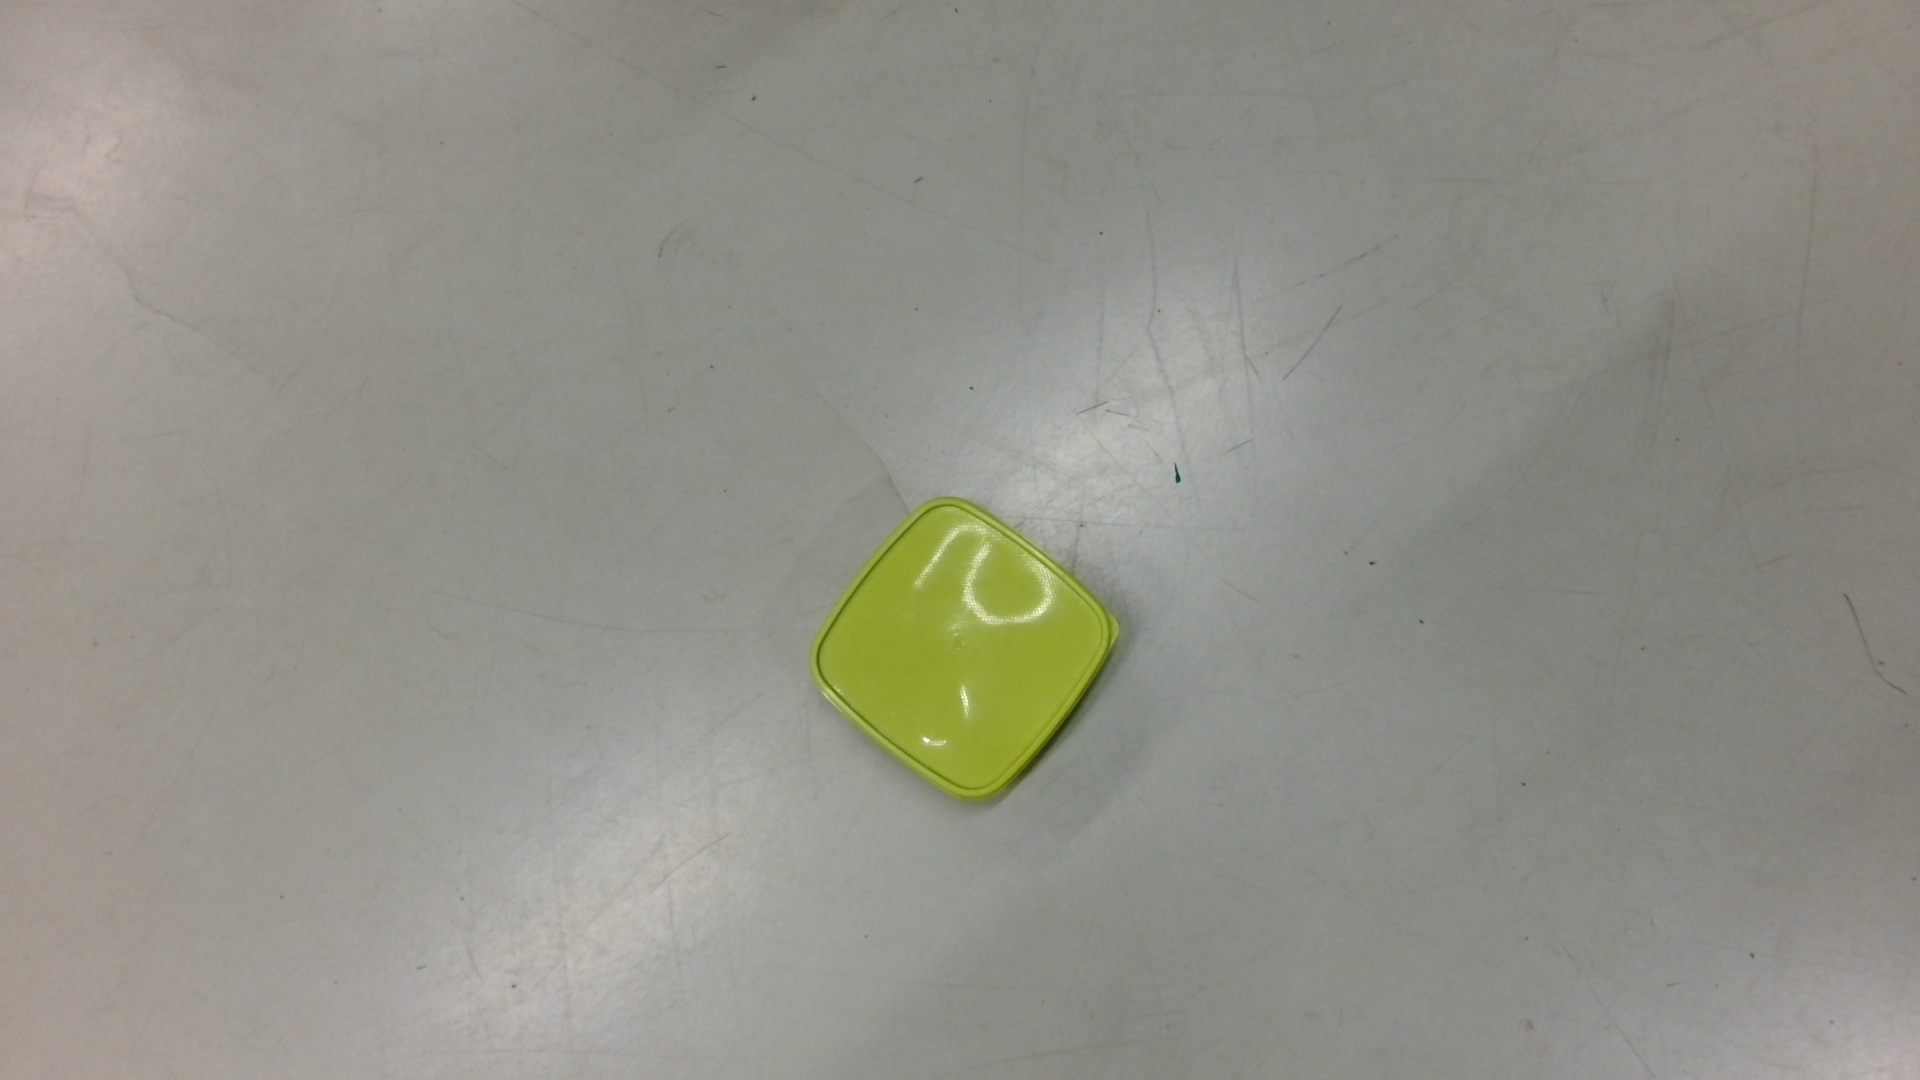Box: (806, 489, 1125, 811)
